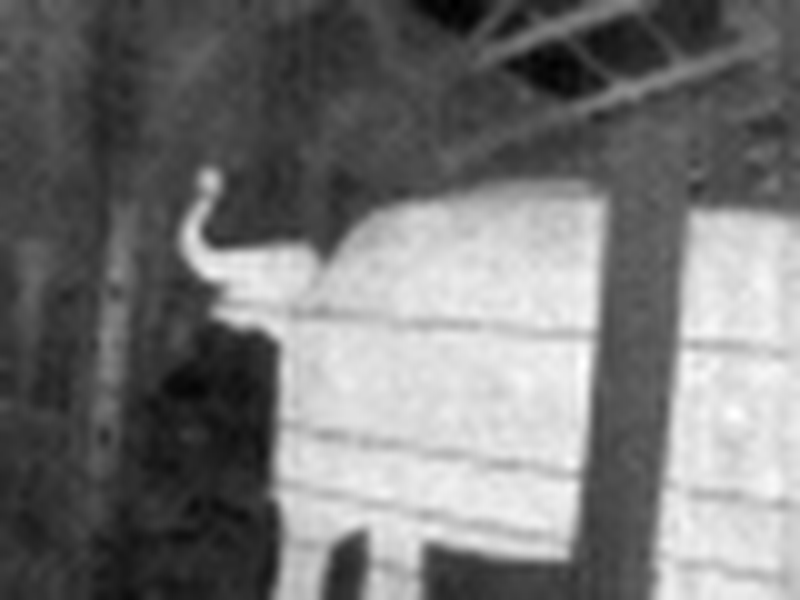elephant: (174, 165, 800, 598)
